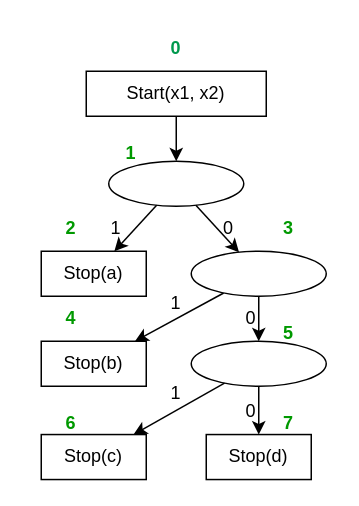
Some shapes in this 359 by 506 pixel diagram are drawn without their labels. Each missing label, with the centre of its shape:
p1(x1, x2): the point at 175,183
p2(x1, x2): the point at 258,273
p3(x1, x2): the point at 258,363
